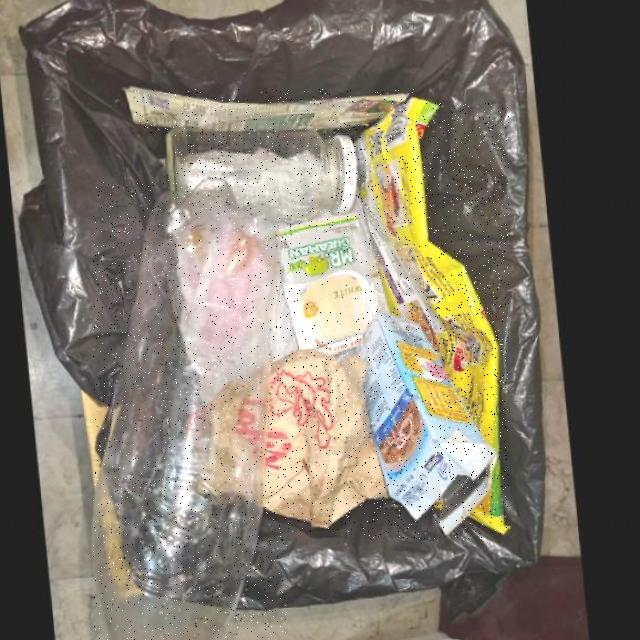glass: (176, 134, 366, 225)
paper: (361, 315, 502, 540), (265, 353, 391, 531)
plastic: (93, 180, 287, 640)
wrapper: (363, 103, 509, 539), (287, 218, 385, 359), (133, 89, 418, 135)
